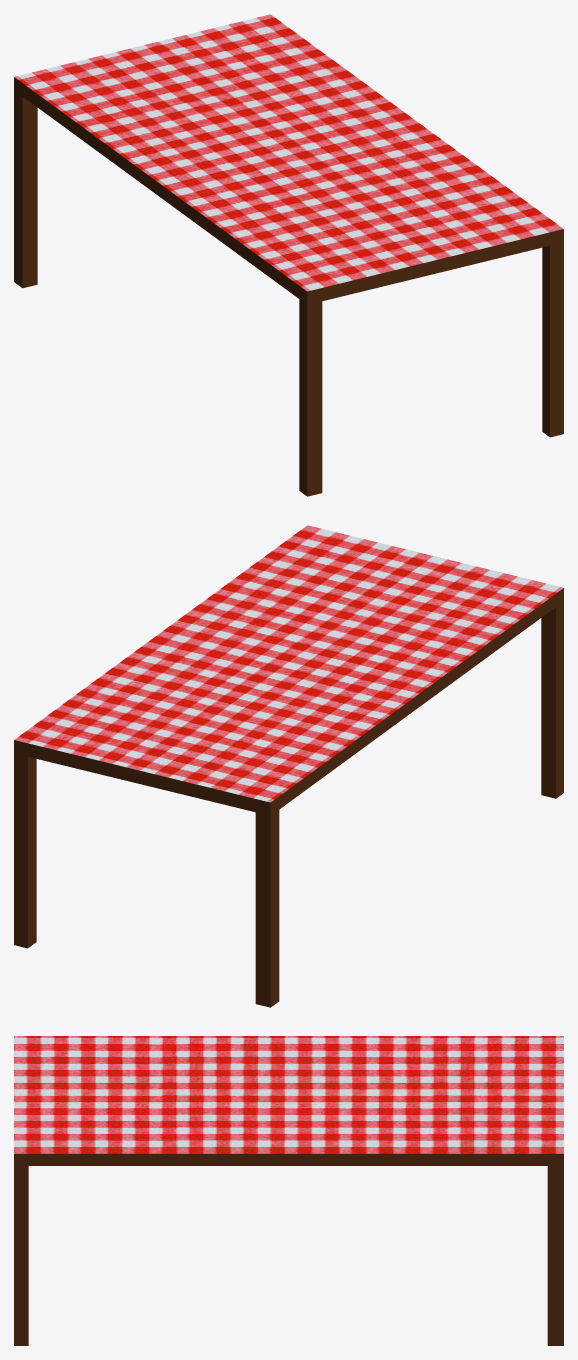
The model's file is Table.fbx.
3 renders of one model, top to bottom at view 1: azimuth 30°, elevation 25°; view 2: azimuth 150°, elevation 25°; view 3: azimuth 270°, elevation 25°, orthographic. The views are drawn at different scales.
Visible parts, largest first — view 1: table; view 2: table; view 3: table.
Part boxes in pixels (bbox=[...]): table: bbox=[14, 14, 563, 496]; table: bbox=[14, 525, 563, 1007]; table: bbox=[14, 1036, 563, 1345].
Bounding box in the file's own units: 292 × 223 × 577.
